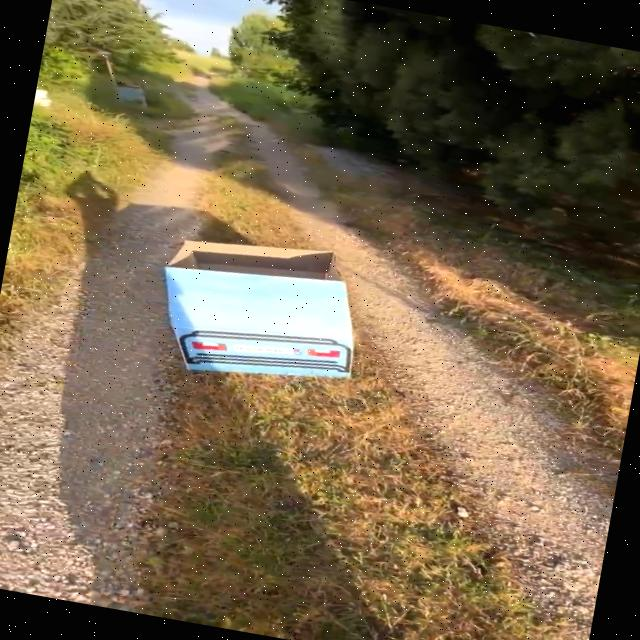blue_car: (109, 205, 404, 425)
